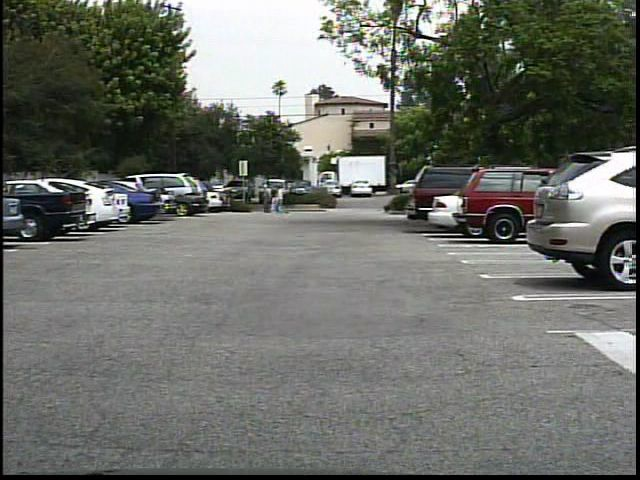person: (260, 186, 275, 217), (271, 185, 284, 216), (276, 186, 289, 217)
